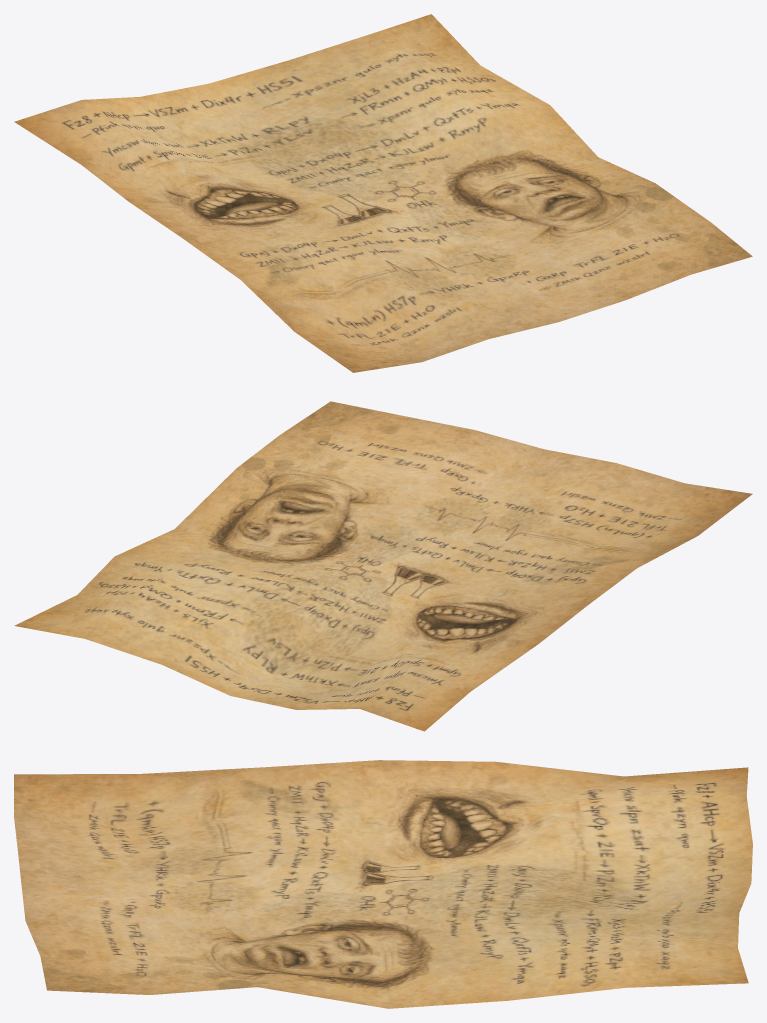
File: SN_Research_Paper.005.fbx
3 views of the same model, one above another, from view 1: azimuth 30°, elevation 25°; view 2: azimuth 150°, elevation 25°; view 3: azimuth 270°, elevation 25° (orthographic). The views are drawn at different scales.
Parts seen in each view (by area): view 1: SN_Research_Paper.005; view 2: SN_Research_Paper.005; view 3: SN_Research_Paper.005.
Part boxes in pixels (bbox=[...]): SN_Research_Paper.005: bbox=[14, 14, 752, 372]; SN_Research_Paper.005: bbox=[14, 401, 752, 731]; SN_Research_Paper.005: bbox=[14, 760, 752, 1008].
Bounding box in the file's own units: 0.2152 × 0.0174 × 0.2962.
